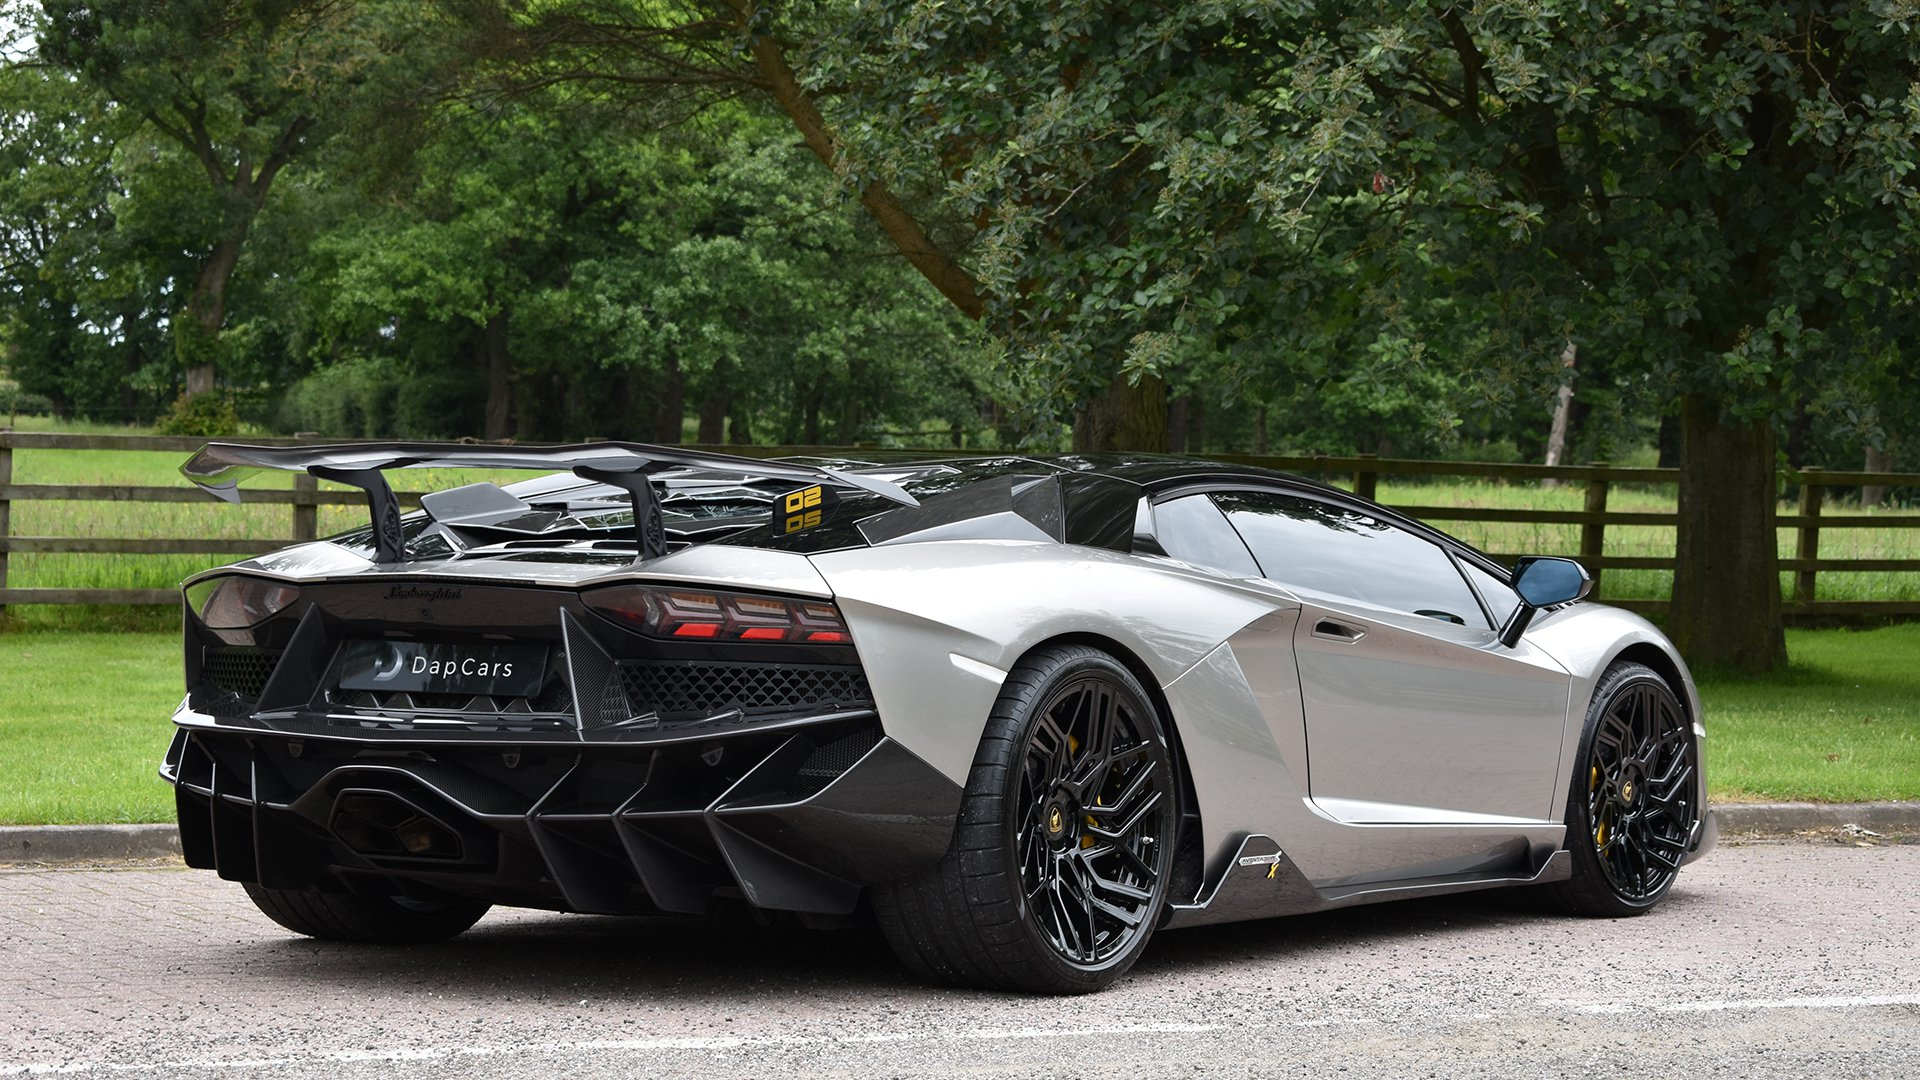car: (165, 411, 1714, 957)
